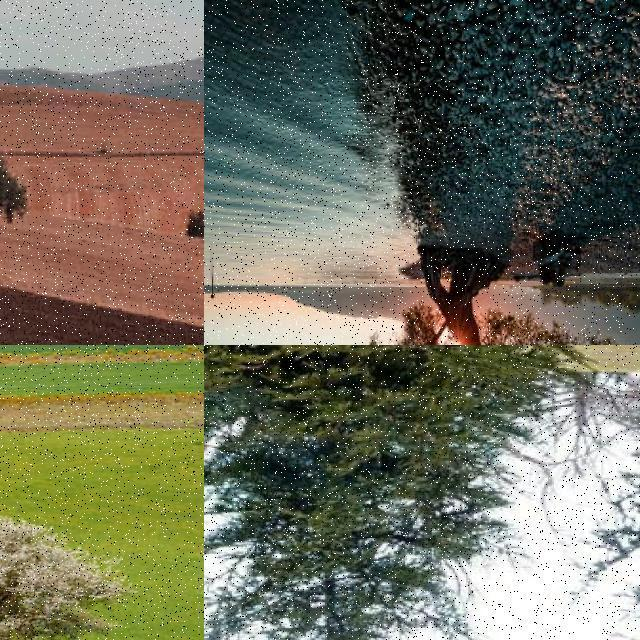tree: (204, 344, 584, 640), (341, 245, 621, 345), (0, 514, 140, 640), (204, 345, 266, 595), (0, 142, 54, 274), (1, 344, 40, 376)
